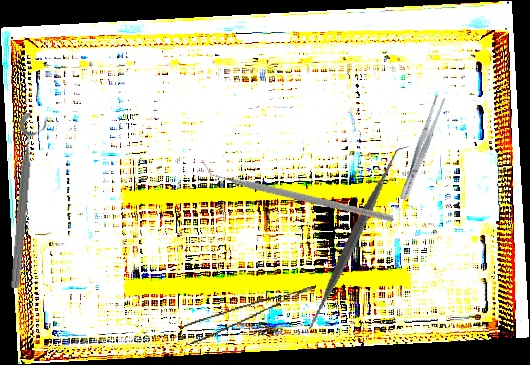Chopper: (201, 107, 395, 273)
Dressing Forceps: (396, 93, 448, 203)
Fixation Ring: (5, 112, 50, 290)
Spatula Surgical: (260, 145, 448, 333)
Tissue Forceps: (178, 285, 323, 346)
